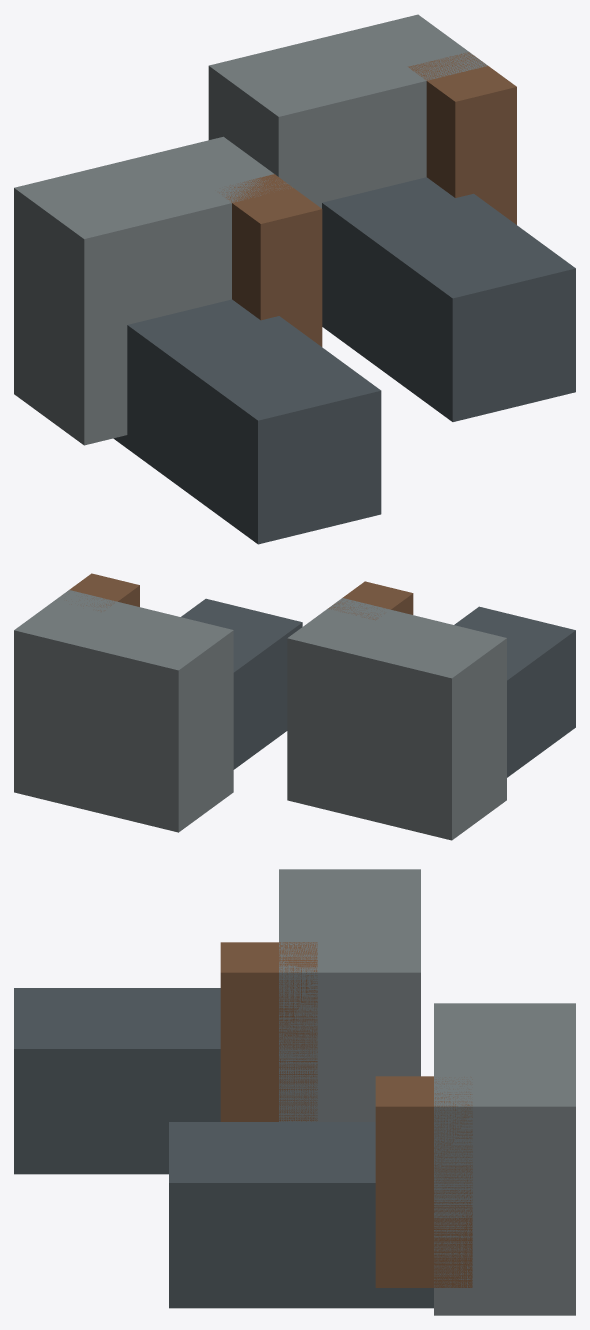
Rendered from coupler_set.glb.
The picture shows the model from 3 angles, top to bottom: view 1: azimuth 30°, elevation 25°; view 2: azimuth 150°, elevation 25°; view 3: azimuth 270°, elevation 25°; orthographic projection. The views are drawn at different scales.
Visible parts, largest first — view 1: coupler_set; view 2: coupler_set; view 3: coupler_set.
Boxes of the visible parts, bbox=[...] form: coupler_set: bbox=[14, 14, 575, 544]; coupler_set: bbox=[14, 573, 575, 840]; coupler_set: bbox=[14, 869, 575, 1315].
Size of the model in its own units: 0.96 by 0.42 by 0.96.
